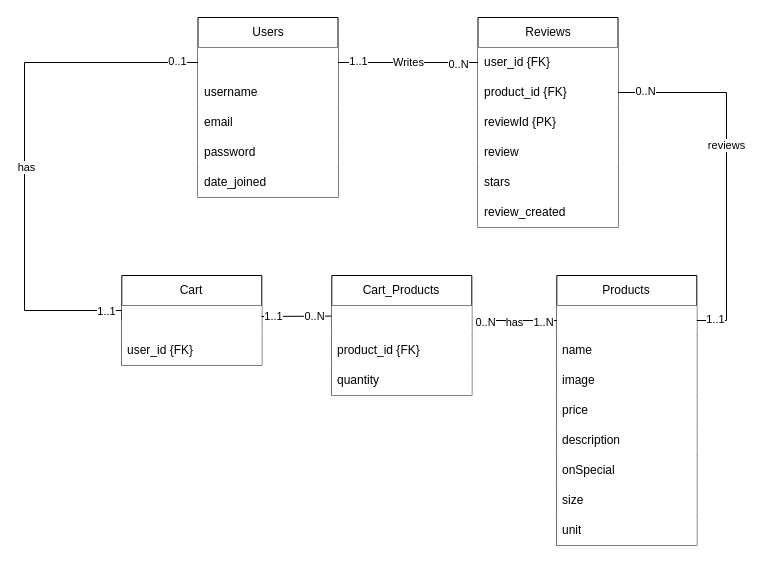
Image size: 762x563. Some labels were removed from this diagram. Here are the shapes that lost their labels. From the top down, the centre of each, then its label:
(x=268, y=62): user_id {PK }
(x=191, y=320): cart_id {PK}
(x=401, y=320): cart_id {FK}
(x=626, y=320): product_id {PK}
